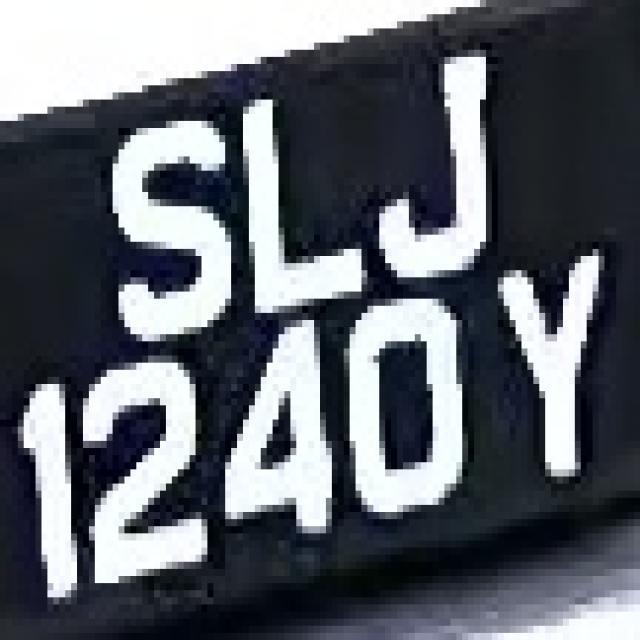0: (326, 277, 468, 519)
1: (6, 334, 77, 626)
2: (65, 356, 231, 612)
4: (195, 292, 338, 540)
J: (367, 28, 498, 284)
L: (225, 64, 374, 334)
S: (101, 92, 225, 356)
Y: (492, 242, 616, 526)
